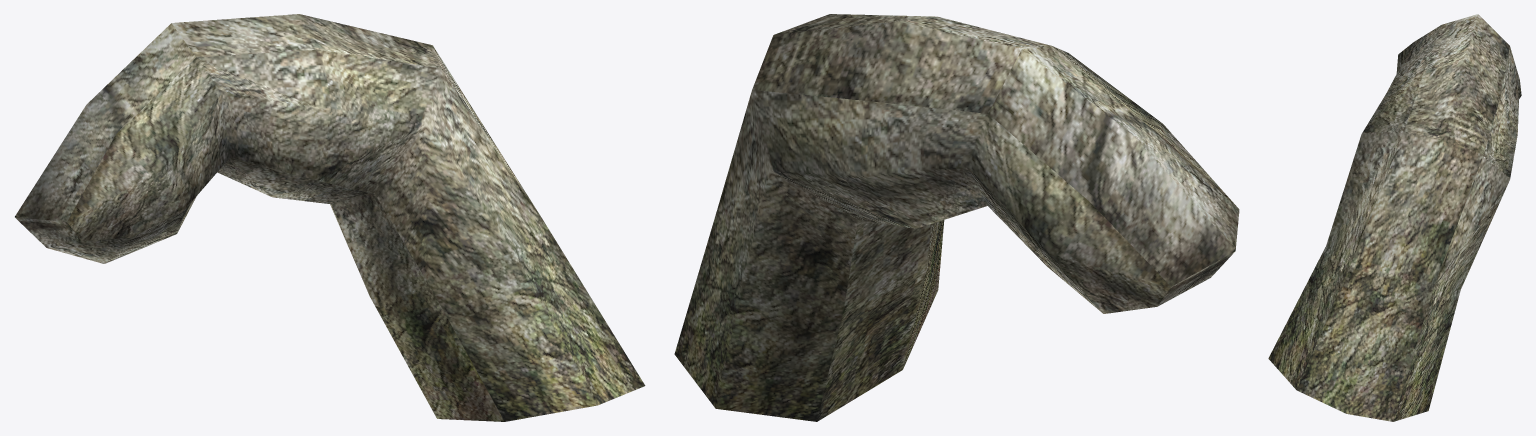
The picture shows the model from 3 angles, left to right: view 1: azimuth 30°, elevation 25°; view 2: azimuth 150°, elevation 25°; view 3: azimuth 270°, elevation 25°; orthographic projection. The views are drawn at different scales.
Parts seen in each view (by area): view 1: Shape02; view 2: Shape02; view 3: Shape02.
Part boxes in pixels (<box>): Shape02: <box>15,14,645,421</box>; Shape02: <box>674,14,1239,421</box>; Shape02: <box>1268,14,1521,421</box>.
Bounding box in the file's own units: 7.75 × 5.55 × 4.35.
